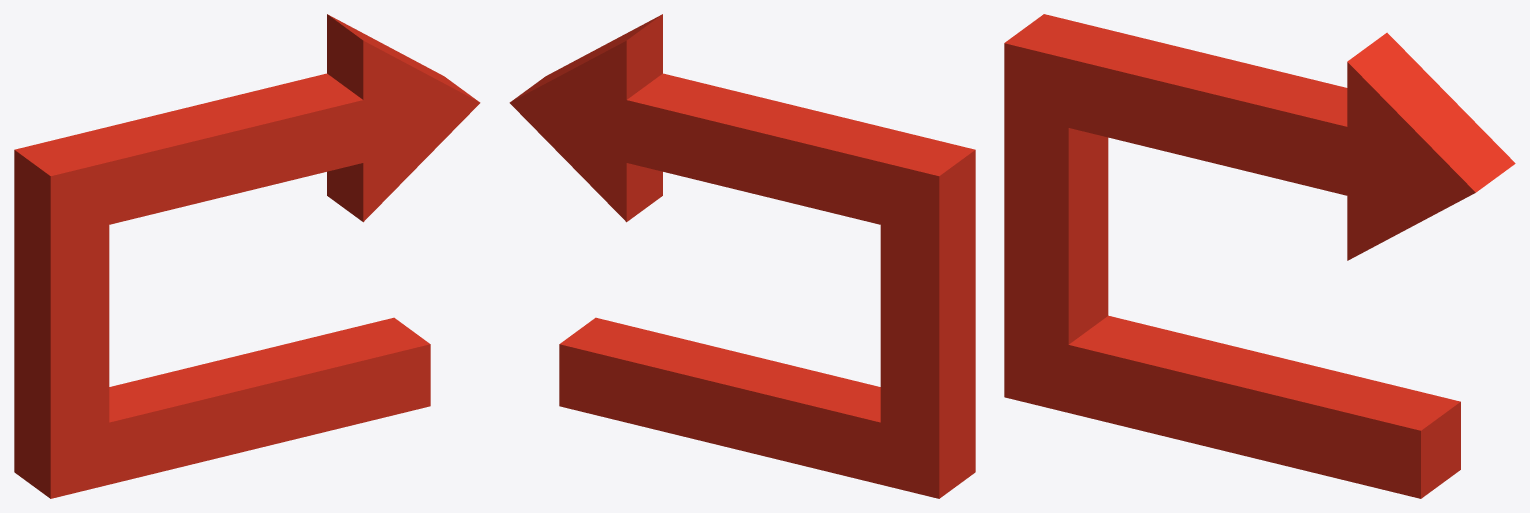
The model's file is Icon_Arrow_12.fbx.
3 views of the same model, side by side, from view 1: azimuth 30°, elevation 25°; view 2: azimuth 150°, elevation 25°; view 3: azimuth 330°, elevation 25° (orthographic). The views are drawn at different scales.
Visible parts, largest first — view 1: Icon_Arrow_12; view 2: Icon_Arrow_12; view 3: Icon_Arrow_12.
Part boxes in pixels (left/top/right/bottom): Icon_Arrow_12: left=14, top=14, right=480, bottom=498; Icon_Arrow_12: left=509, top=14, right=975, bottom=498; Icon_Arrow_12: left=1004, top=14, right=1515, bottom=498.
Size of the model in its own units: 82.41 by 70 by 12.06.
